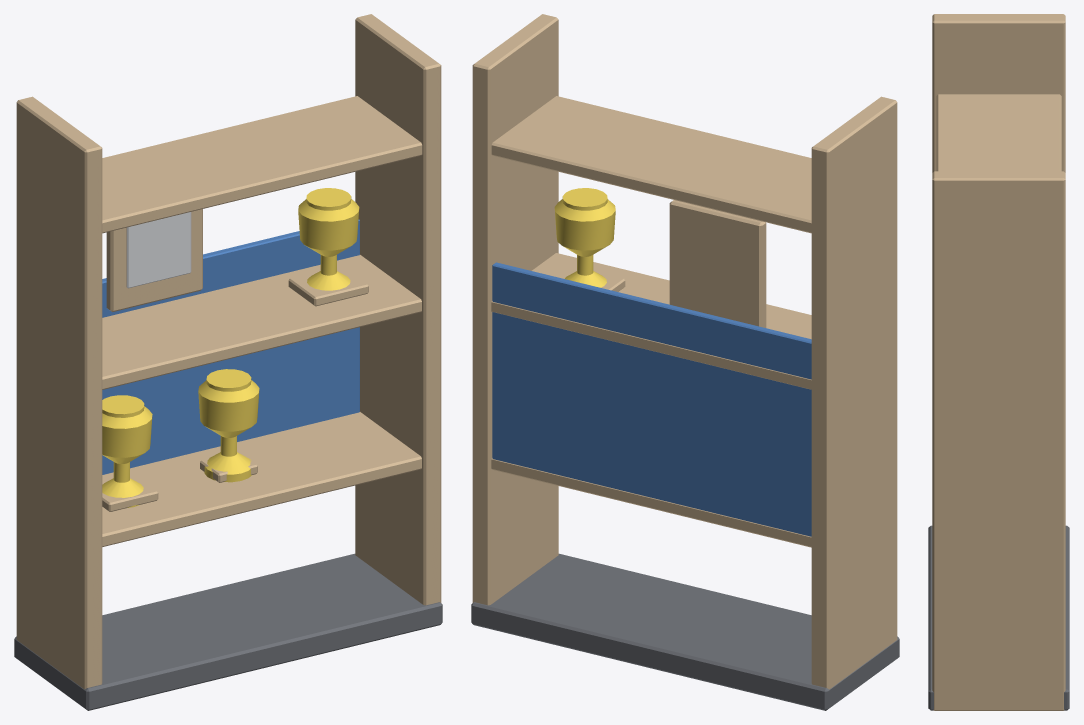
File: ice-hockey-arena-and-locker-room-trophy-shelf-78e4011e__33735.glb
3 views of the same model, side by side, from view 1: azimuth 30°, elevation 25°; view 2: azimuth 150°, elevation 25°; view 3: azimuth 270°, elevation 25° (orthographic). The views are drawn at different scales.
Visible parts, largest first — view 1: trophy-shelf; view 2: trophy-shelf; view 3: trophy-shelf.
Part boxes in pixels (<box>): trophy-shelf: <box>14,14,442,710</box>; trophy-shelf: <box>471,14,899,710</box>; trophy-shelf: <box>928,14,1069,710</box>.
Size of the model in its own units: 1 by 1.5 by 0.36.
